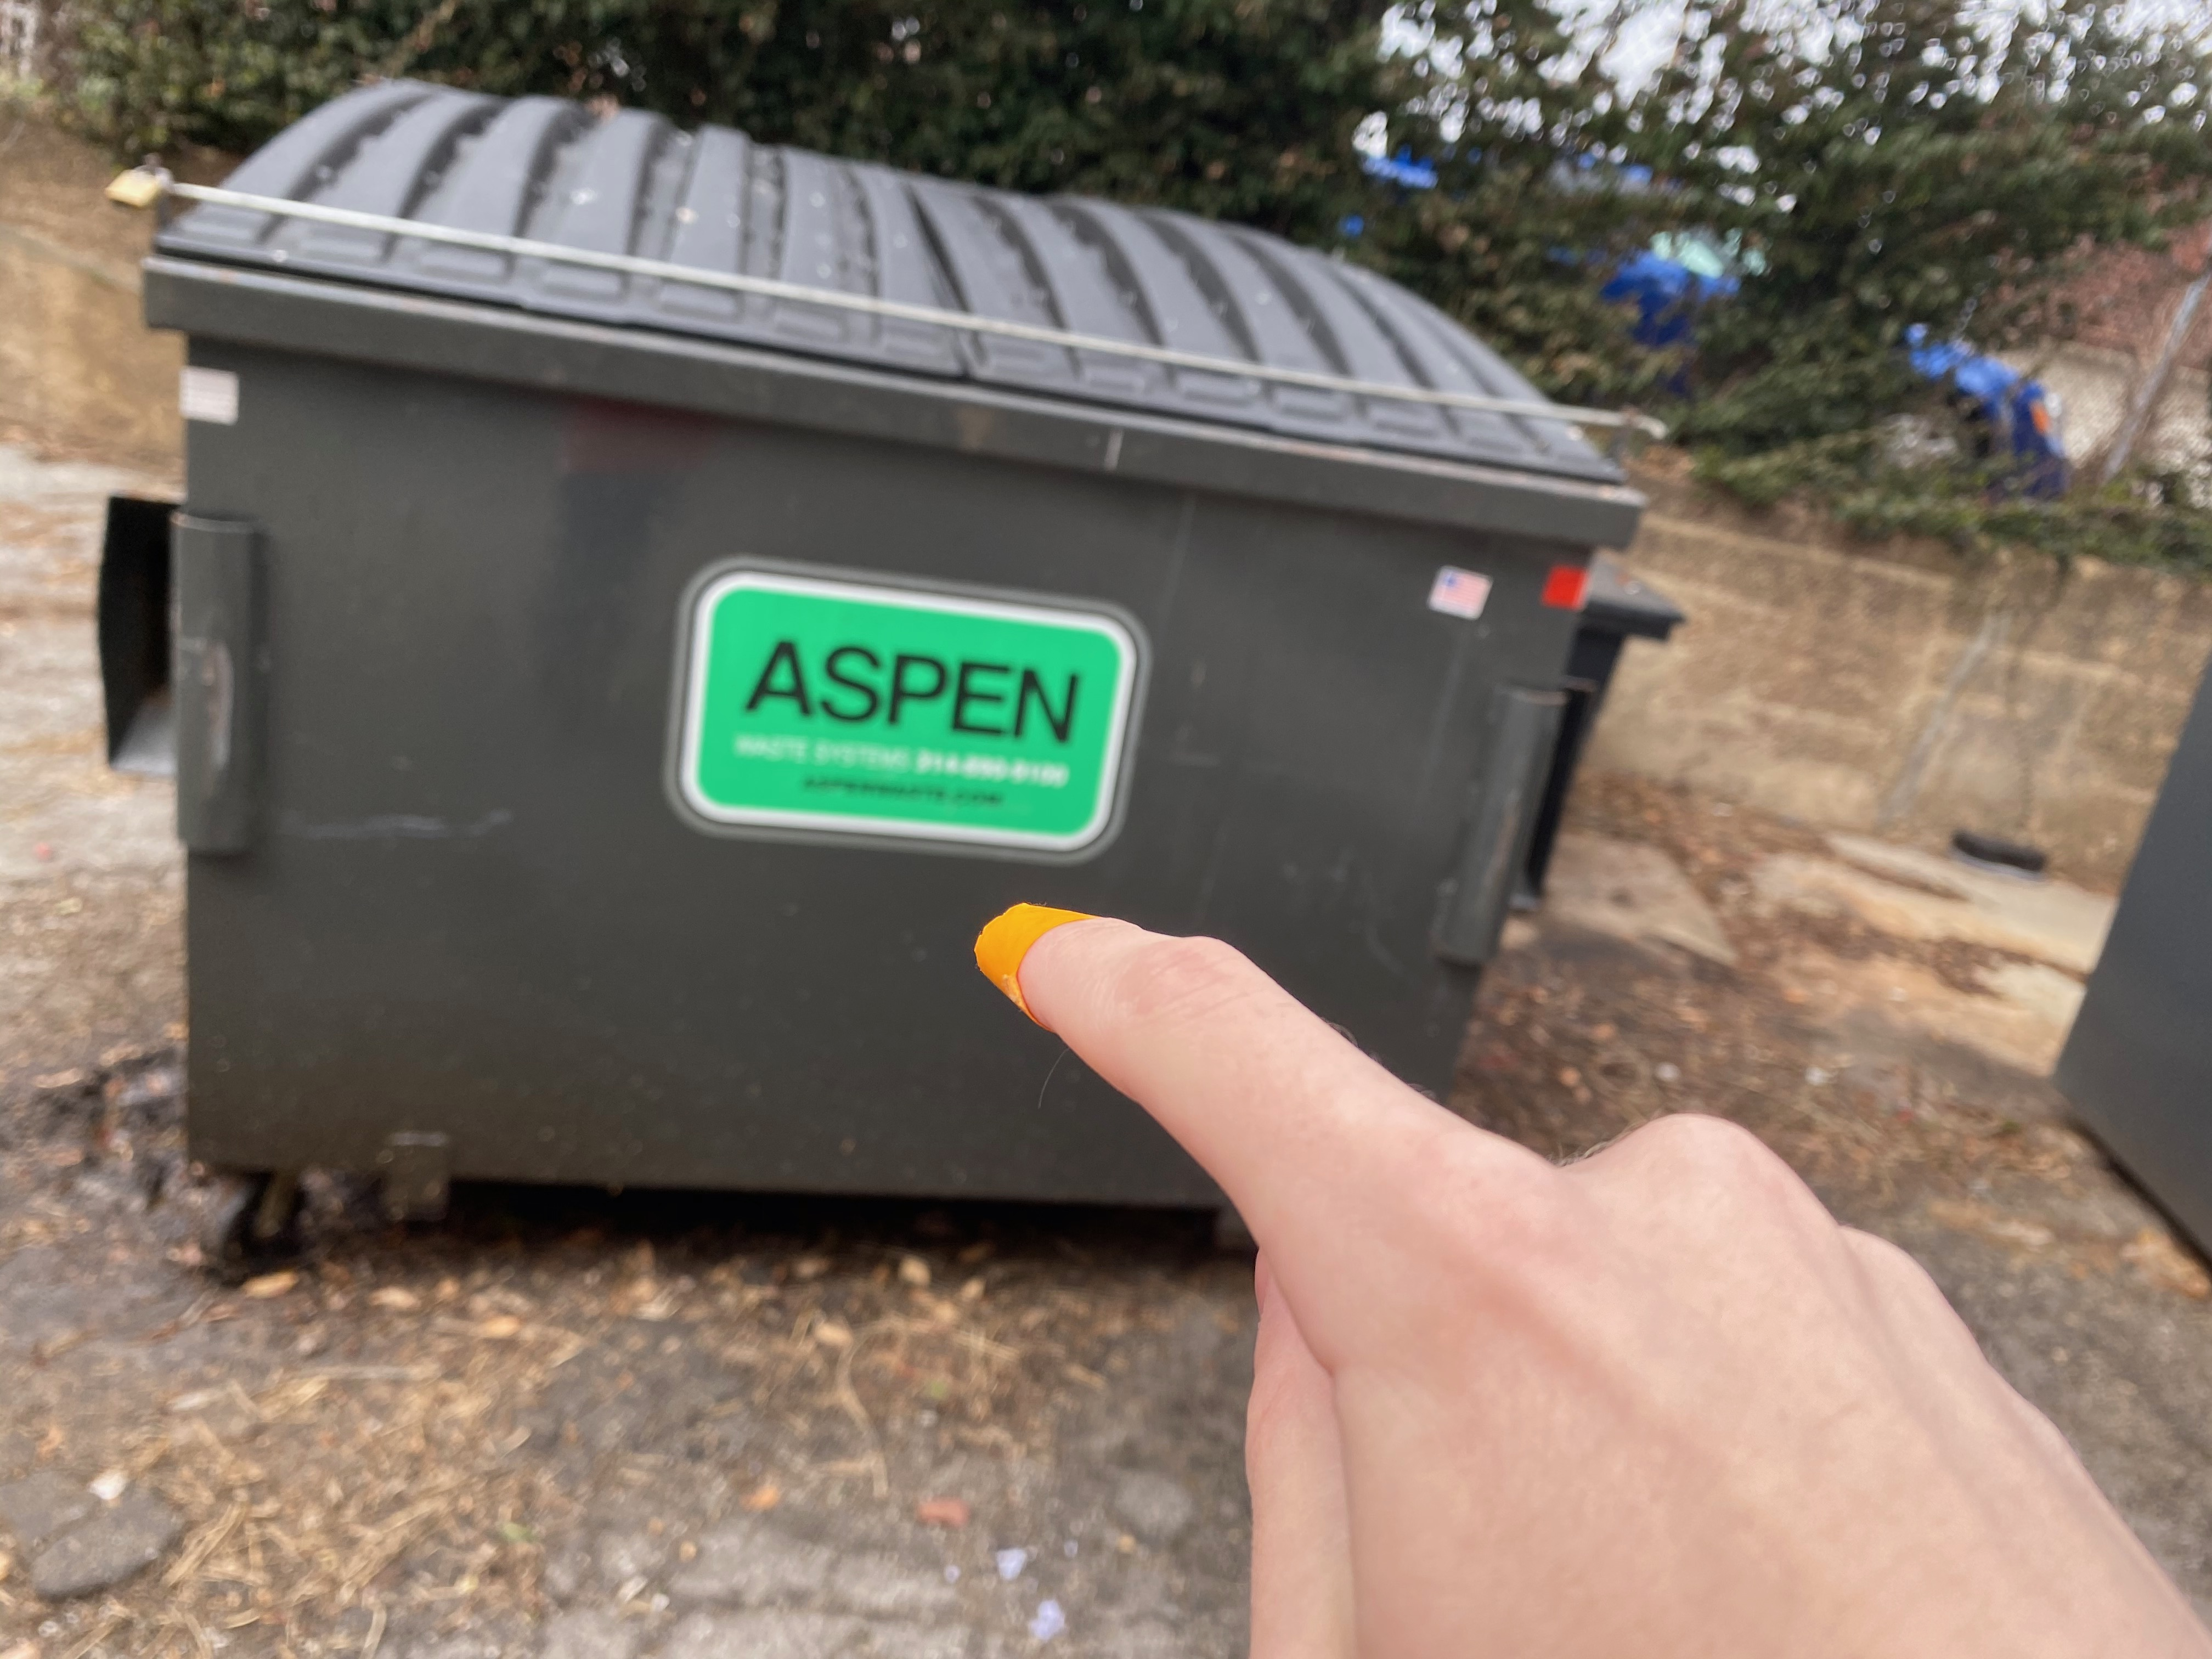fingertip: (965, 894, 1099, 1042)
